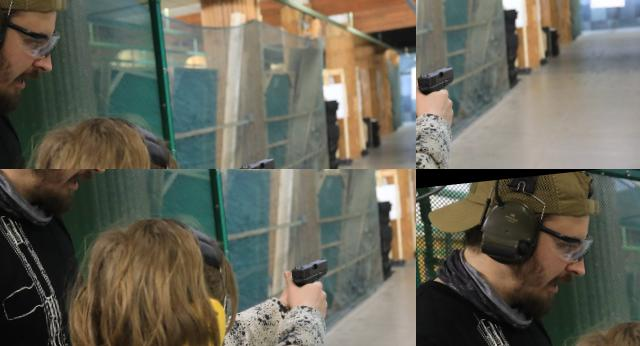handgun: (0, 169, 15, 196), (416, 0, 439, 12), (0, 19, 13, 39)
